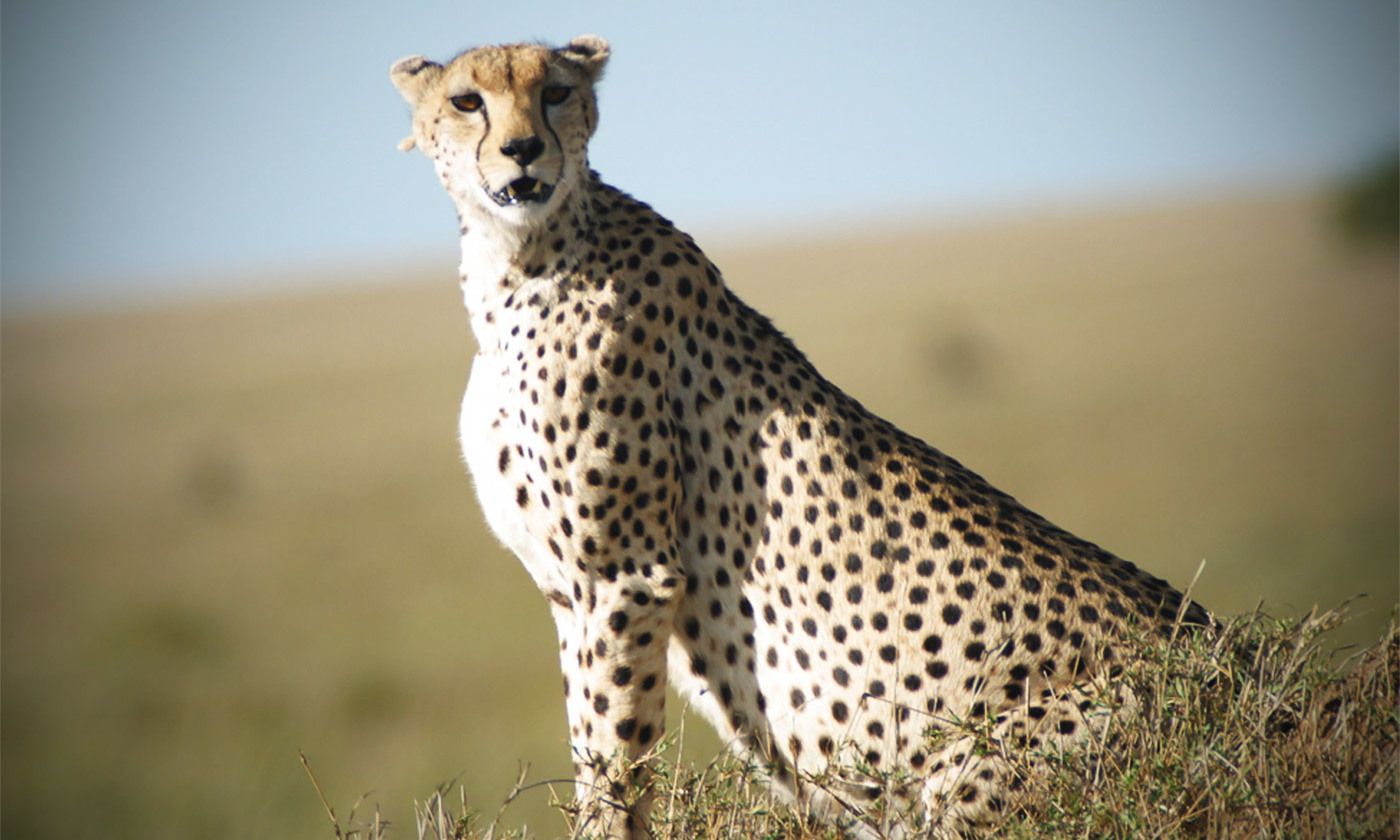cheetah: (369, 29, 638, 245)
